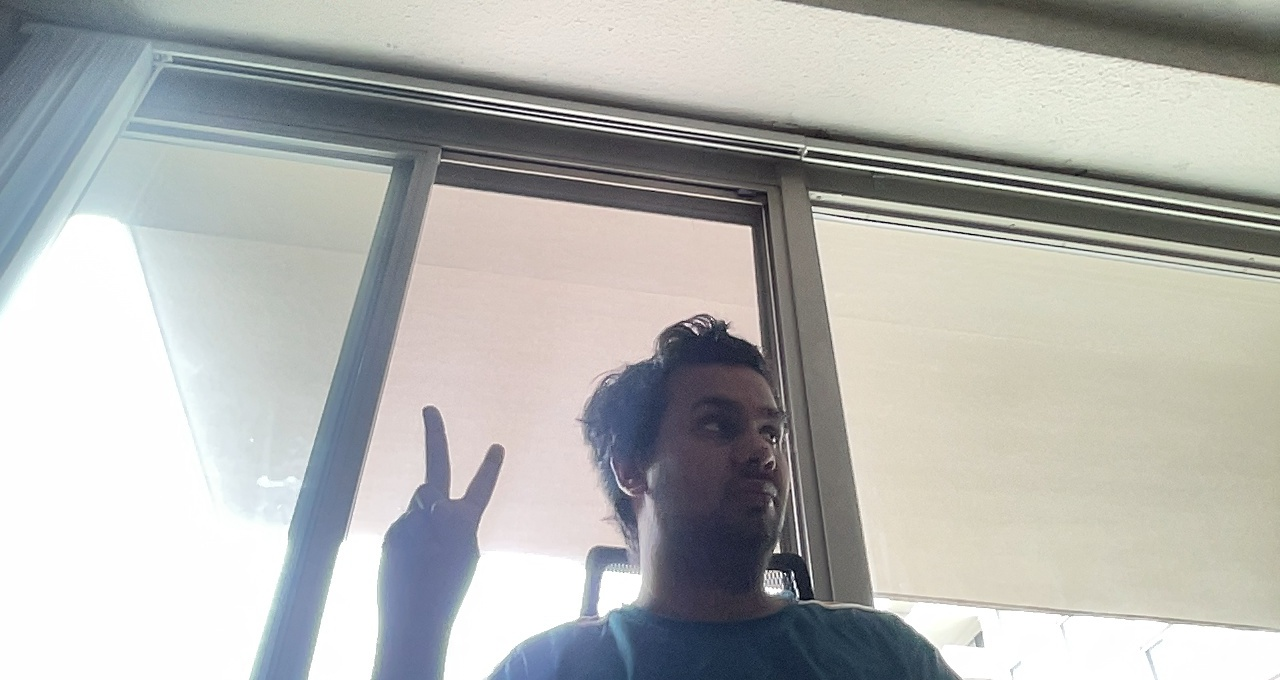peace sign: (387, 395, 504, 630)
